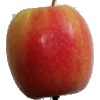apple: (6, 3, 95, 100)
